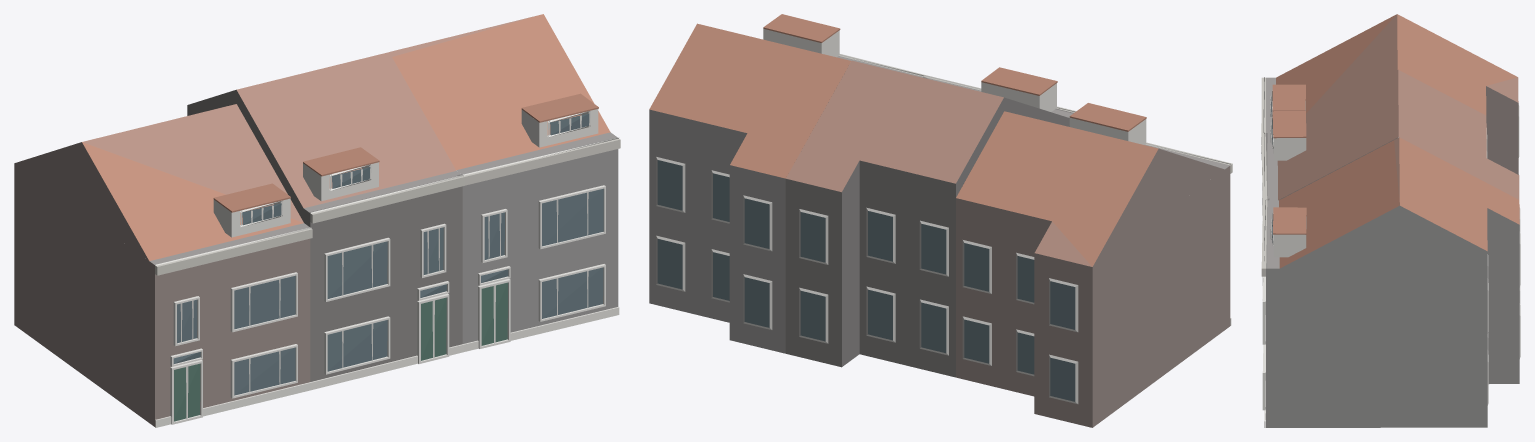
The model's file is chunk-face-pelikaan-16-22-r1.lod2.glb.
3 renders of one model, left to right at view 1: azimuth 30°, elevation 25°; view 2: azimuth 150°, elevation 25°; view 3: azimuth 270°, elevation 25°, orthographic. The views are drawn at different scales.
Visible parts, largest first — view 1: lod2; view 2: lod2; view 3: lod2.
Part boxes in pixels (x1,y1,x2,y2): lod2: [14, 14, 620, 427]; lod2: [649, 14, 1232, 427]; lod2: [1261, 14, 1520, 427].
Size of the model in its own units: 19.37 by 9.82 by 10.37.
